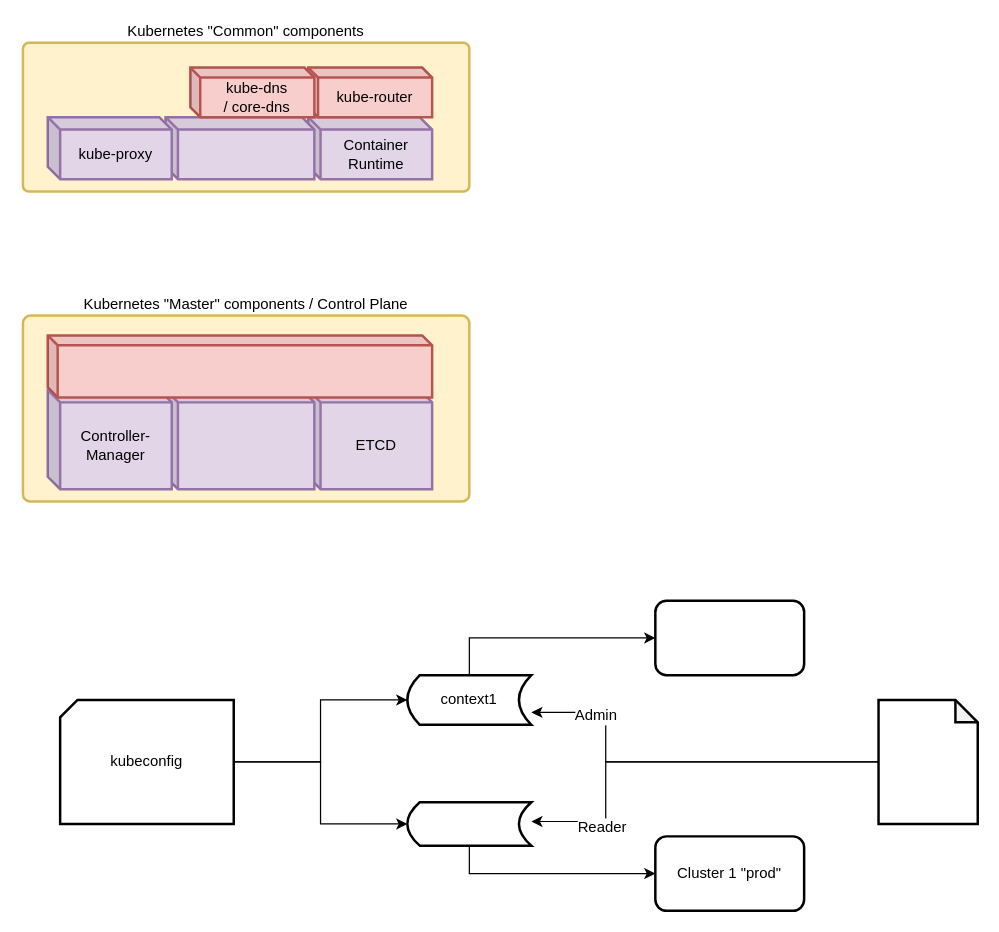
Image size: 999x932. Some labels were removed from this diagram. The centre of each missing label's shape, as x and y in pixels:
API-Server: (x=239, y=366)
Cluster 1 "dev": (x=729, y=637)
context2: (x=468, y=823)
kubelet: (x=239, y=147)
SCHEDULER: (x=239, y=439)
User Credentials Name & Cert: (x=927, y=761)
